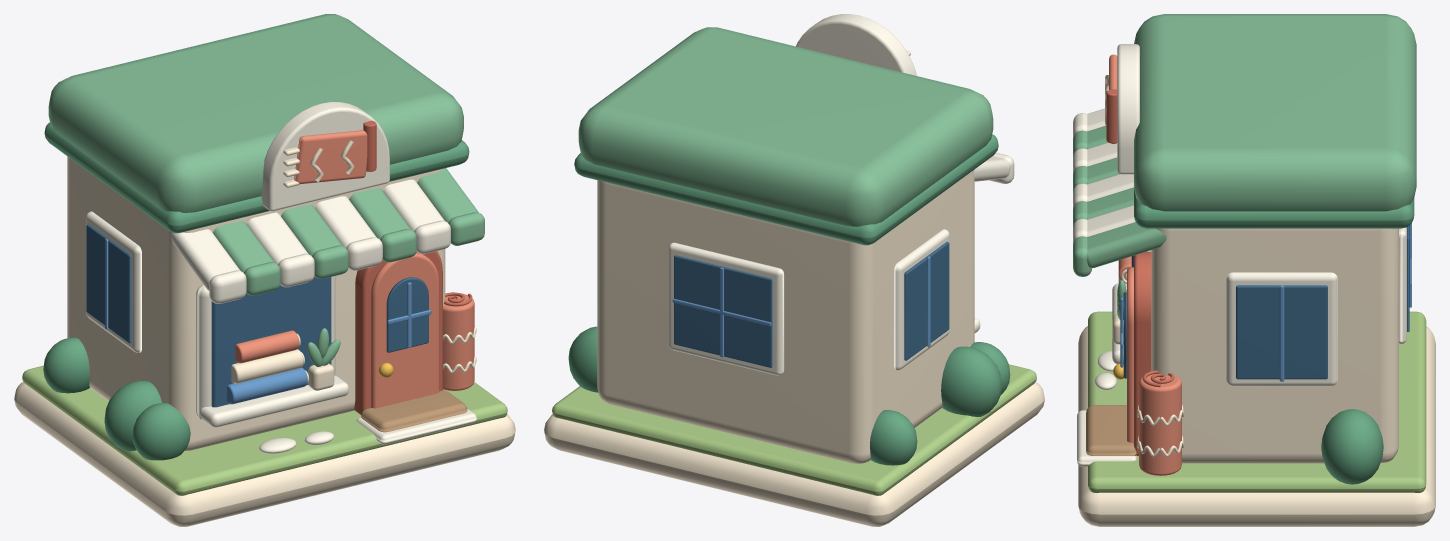
Rendered from FloatingShop.glb.
The picture shows the model from 3 angles, left to right: view 1: azimuth 30°, elevation 25°; view 2: azimuth 150°, elevation 25°; view 3: azimuth 270°, elevation 25°; orthographic projection. The views are drawn at different scales.
Parts seen in each view (by area): view 1: FloatingShop; view 2: FloatingShop; view 3: FloatingShop.
Part boxes in pixels (box(x1,y1,x2,y2)): FloatingShop: box(14, 14, 515, 526); FloatingShop: box(544, 14, 1044, 526); FloatingShop: box(1073, 14, 1435, 526).
Bounding box in the file's own units: 3.87 × 3.82 × 3.2.
